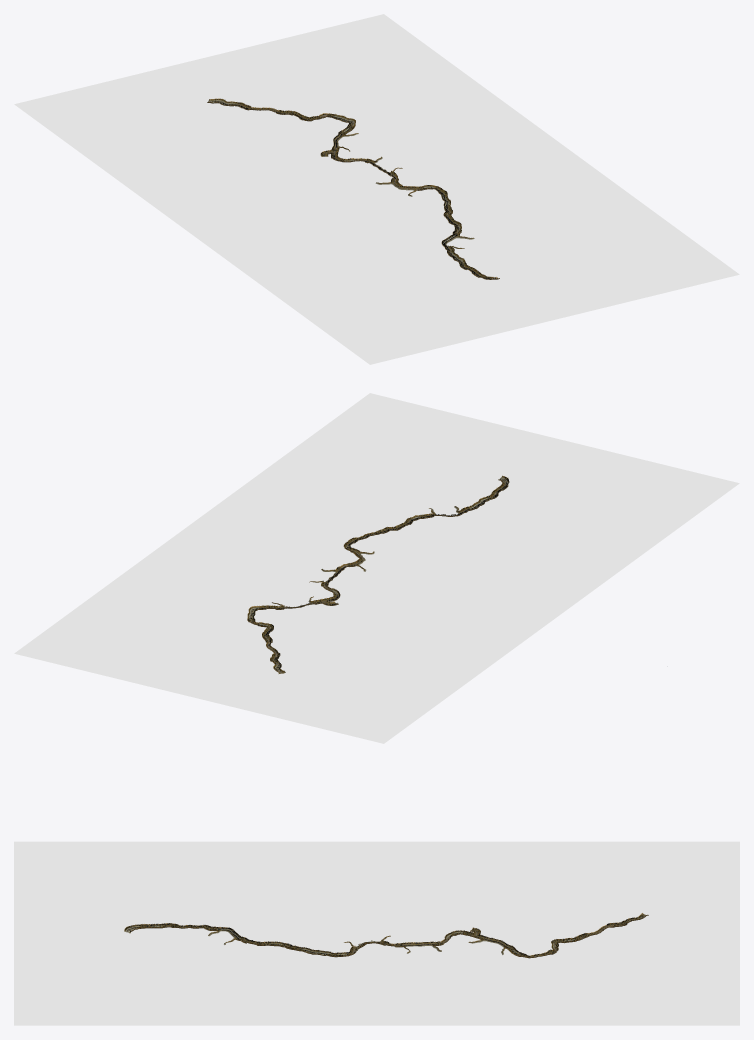
File: finland_stage6_visual.glb
3 views of the same model, one above another, from view 1: azimuth 30°, elevation 25°; view 2: azimuth 150°, elevation 25°; view 3: azimuth 270°, elevation 25° (orthographic).
Parts seen in each view (by area): view 1: Props_And_Markers, Track_Road_And_Terrain, Foliage_And_Vegetation; view 2: Props_And_Markers, Track_Road_And_Terrain, Foliage_And_Vegetation; view 3: Props_And_Markers, Track_Road_And_Terrain, Foliage_And_Vegetation.
Part boxes in pixels (x1,y1,x2,y2): Props_And_Markers: [14, 14, 739, 364]; Track_Road_And_Terrain: [207, 98, 499, 279]; Foliage_And_Vegetation: [210, 99, 497, 278]; Props_And_Markers: [14, 393, 739, 743]; Track_Road_And_Terrain: [247, 475, 509, 673]; Foliage_And_Vegetation: [248, 476, 508, 671]; Props_And_Markers: [14, 841, 739, 1025]; Track_Road_And_Terrain: [124, 913, 648, 958]; Foliage_And_Vegetation: [125, 914, 643, 957].
Size of the model in its own units: 4854 by 54.06 by 5921.
40 materials, 40 textured.
